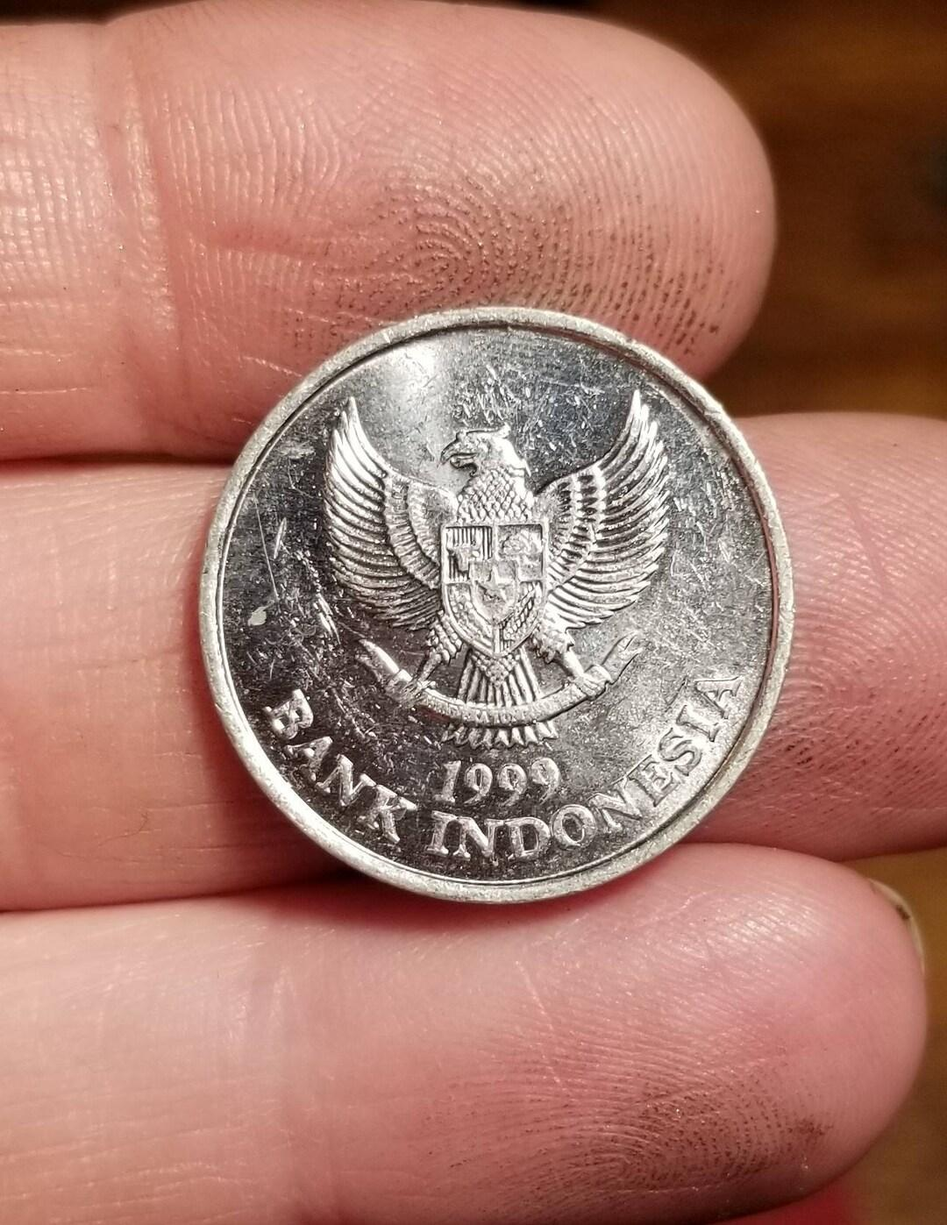coin_100_e1999: (202, 283, 803, 917)
